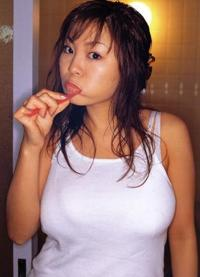person: (6, 4, 200, 275)
